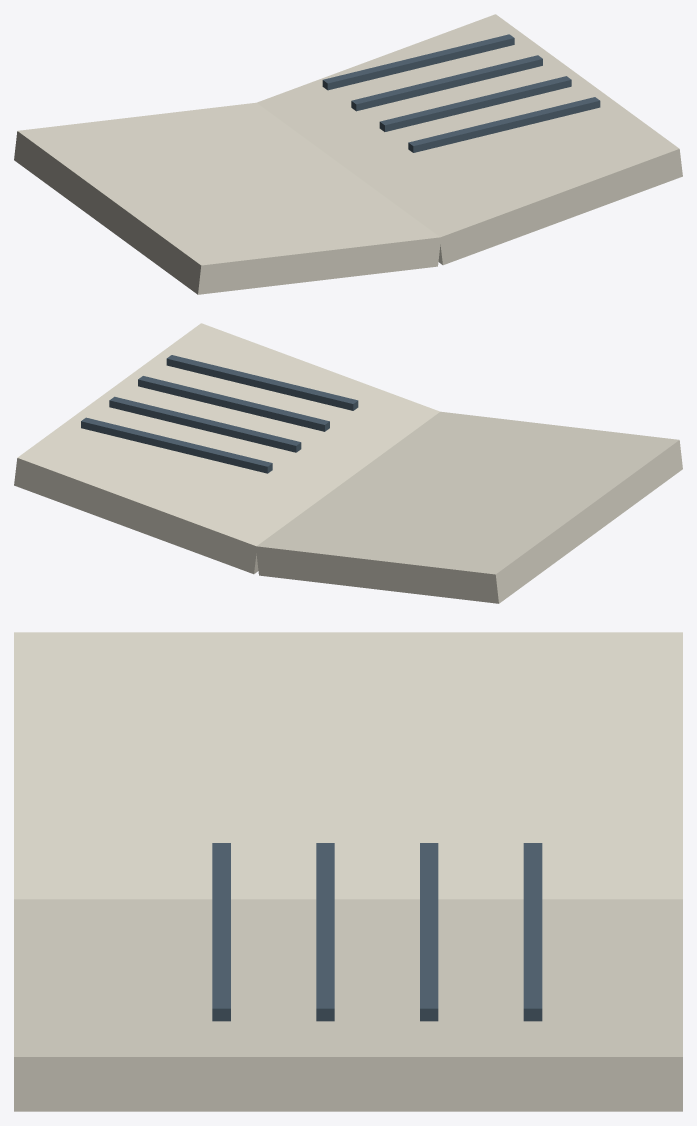
File: open_book.glb
3 views of the same model, one above another, from view 1: azimuth 30°, elevation 25°; view 2: azimuth 150°, elevation 25°; view 3: azimuth 270°, elevation 25° (orthographic). The views are drawn at different scales.
Parts seen in each view (by area): view 1: _MeshInstance3D_1060, _MeshInstance3D_1061, _MeshInstance3D_1064, _MeshInstance3D_1065, _MeshInstance3D_1062, _MeshInstance3D_1063; view 2: _MeshInstance3D_1060, _MeshInstance3D_1061, _MeshInstance3D_1063, _MeshInstance3D_1065, _MeshInstance3D_1062, _MeshInstance3D_1064; view 3: _MeshInstance3D_1060, _MeshInstance3D_1061, _MeshInstance3D_1062, _MeshInstance3D_1064, _MeshInstance3D_1065, _MeshInstance3D_1063.
Boxes of the visible parts, x1,y1,x2,y2 form: _MeshInstance3D_1060: [14, 102, 440, 294]; _MeshInstance3D_1061: [257, 14, 682, 265]; _MeshInstance3D_1064: [379, 76, 571, 131]; _MeshInstance3D_1065: [408, 97, 600, 152]; _MeshInstance3D_1062: [322, 34, 514, 90]; _MeshInstance3D_1063: [351, 55, 542, 111]; _MeshInstance3D_1060: [256, 411, 682, 603]; _MeshInstance3D_1061: [14, 323, 439, 574]; _MeshInstance3D_1063: [109, 396, 301, 452]; _MeshInstance3D_1065: [166, 355, 358, 410]; _MeshInstance3D_1062: [81, 417, 272, 473]; _MeshInstance3D_1064: [138, 376, 329, 431]; _MeshInstance3D_1060: [14, 632, 682, 899]; _MeshInstance3D_1061: [14, 899, 682, 1111]; _MeshInstance3D_1062: [523, 843, 542, 1021]; _MeshInstance3D_1064: [316, 843, 334, 1021]; _MeshInstance3D_1065: [212, 843, 230, 1021]; _MeshInstance3D_1063: [420, 843, 438, 1021].
Size of the model in its own units: 0.4414 by 0.0636 by 0.29.
